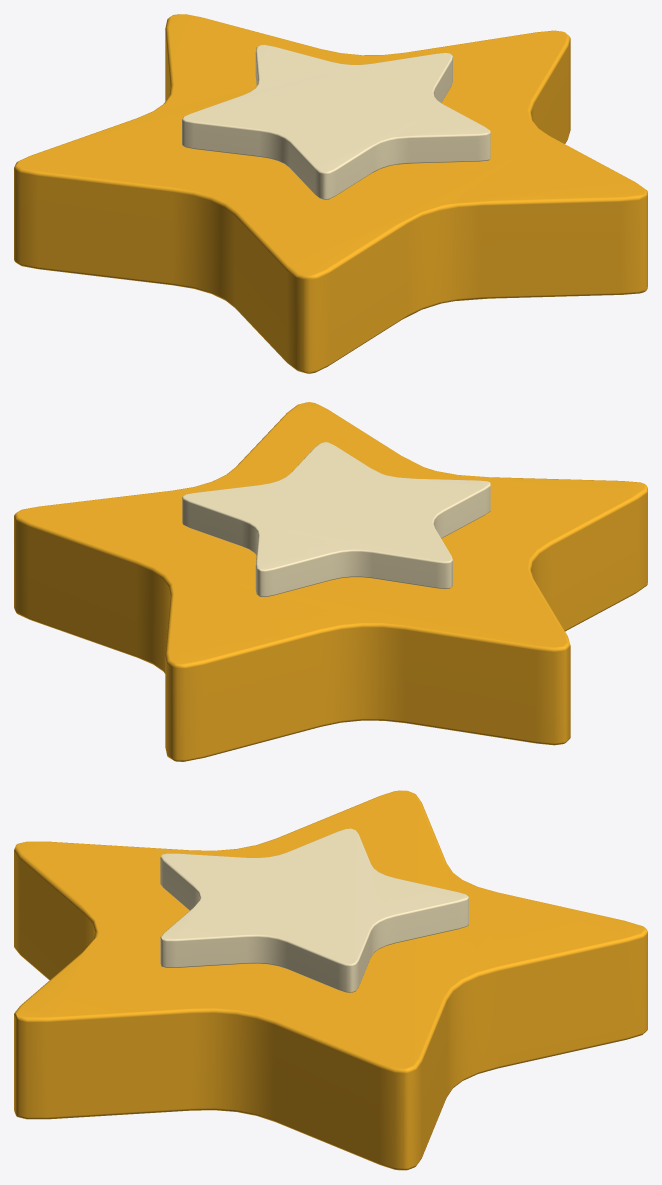
File: reward_star.glb
3 renders of one model, top to bottom at view 1: azimuth 30°, elevation 25°; view 2: azimuth 150°, elevation 25°; view 3: azimuth 270°, elevation 25°, orthographic. The views are drawn at different scales.
Parts seen in each view (by area): view 1: Golden_reward_star, Vanilla_star_inlay; view 2: Golden_reward_star, Vanilla_star_inlay; view 3: Golden_reward_star, Vanilla_star_inlay.
Part boxes in pixels (x1=…): Golden_reward_star: x1=14, y1=14, x2=647, y2=373; Vanilla_star_inlay: x1=182, y1=44, x2=490, y2=199; Golden_reward_star: x1=14, y1=402, x2=647, y2=761; Vanilla_star_inlay: x1=182, y1=442, x2=490, y2=597; Golden_reward_star: x1=14, y1=790, x2=647, y2=1170; Vanilla_star_inlay: x1=160, y1=828, x2=468, y2=992.
Bounding box in the file's own units: 1.36 × 0.305 × 1.3.
